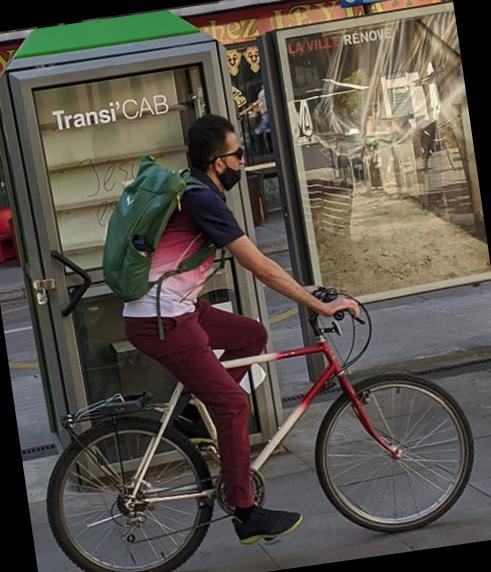mask_weared_incorrect: (210, 133, 258, 191)
